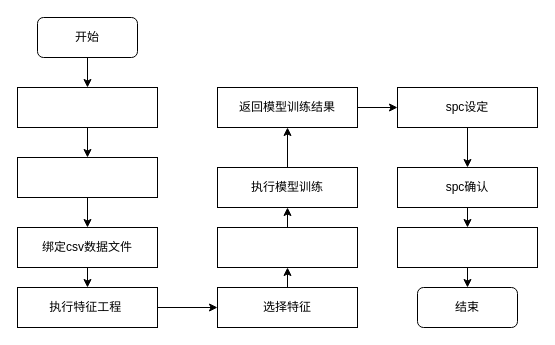
Some shapes in this 555 by 345 pixel diagram are drawn without their labels. Each missing label, with the centre of its shape:
"保存模型" goes at (x=467, y=247).
"紧急制动与普通制动选择" goes at (x=87, y=177).
"输入模型名称" goes at (x=87, y=107).
"选择算法" goes at (x=287, y=247).
